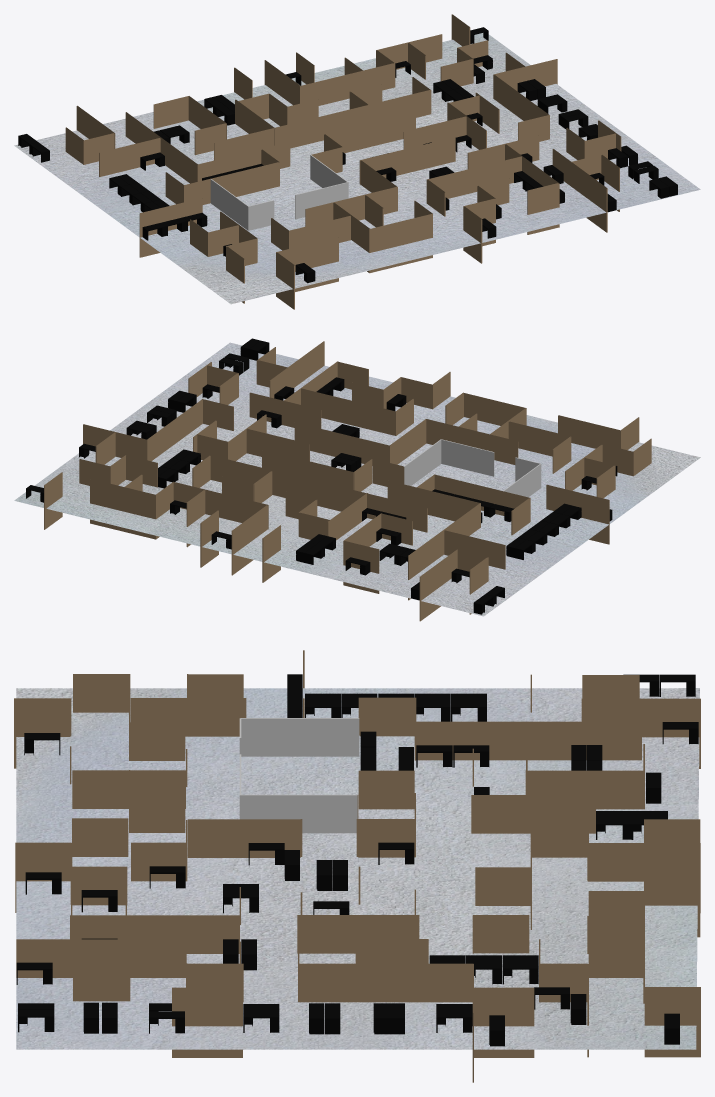
The model's file is Map.fbx.
3 views of the same model, one above another, from view 1: azimuth 30°, elevation 25°; view 2: azimuth 150°, elevation 25°; view 3: azimuth 270°, elevation 25° (orthographic). The views are drawn at different scales.
Visible parts, largest first — view 1: polySurface83, pPlane8, pCube102; view 2: polySurface83, pPlane8, pCube102; view 3: polySurface83, pPlane8, pCube102.
Part boxes in pixels (bbox=[...]): polySurface83: bbox=[65, 14, 621, 309]; pPlane8: bbox=[14, 33, 700, 304]; pCube102: bbox=[210, 155, 348, 230]; polySurface83: bbox=[44, 341, 651, 621]; pPlane8: bbox=[14, 342, 700, 616]; pCube102: bbox=[403, 439, 541, 497]; polySurface83: bbox=[14, 650, 700, 1082]; pPlane8: bbox=[16, 688, 699, 1049]; pCube102: bbox=[239, 718, 359, 833].
Bounding box in the file's own units: 25.68 × 2.3 × 20.55.
